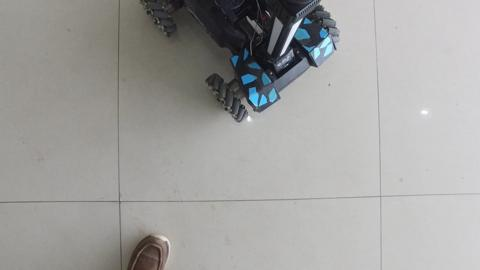chariot: (132, 5, 337, 132)
